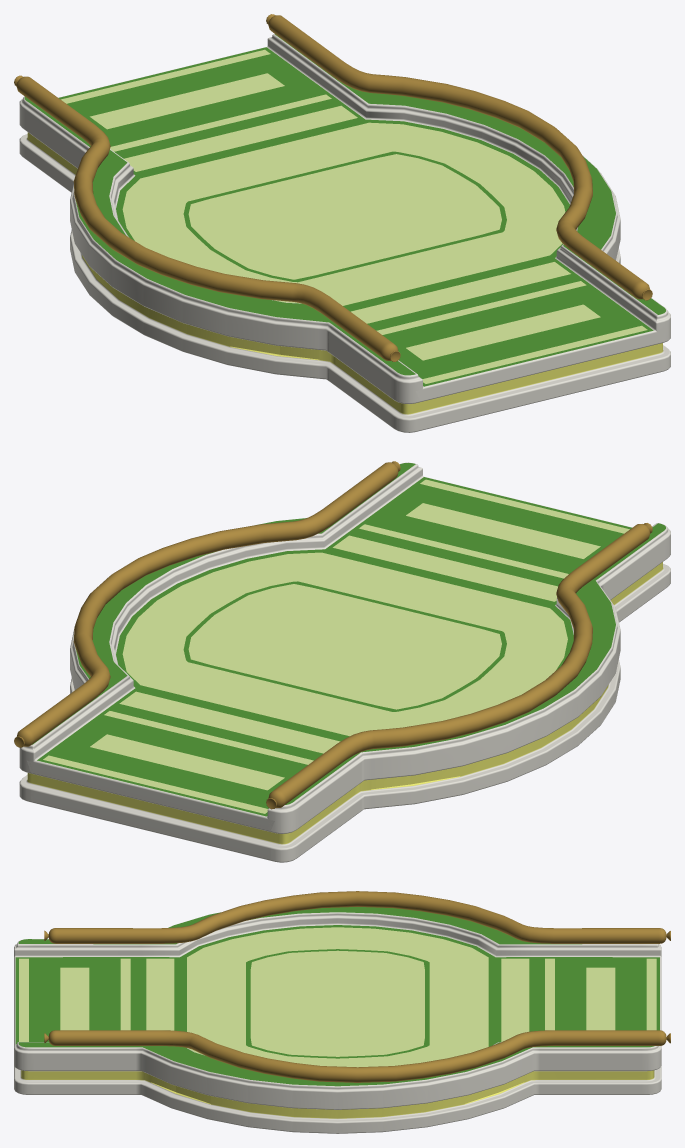
The model's file is SM_Checkpoint_Platform_01.fbx.
3 renders of one model, top to bottom at view 1: azimuth 30°, elevation 25°; view 2: azimuth 150°, elevation 25°; view 3: azimuth 270°, elevation 25°, orthographic. The views are drawn at different scales.
Visible parts, largest first — view 1: SM_Checkpoint_Platform_01, SM_Checkpoint_Platform_01.001; view 2: SM_Checkpoint_Platform_01, SM_Checkpoint_Platform_01.001; view 3: SM_Checkpoint_Platform_01, SM_Checkpoint_Platform_01.001.
Part boxes in pixels (x1=…): SM_Checkpoint_Platform_01: x1=19, y1=34, x2=670, y2=432; SM_Checkpoint_Platform_01.001: x1=14, y1=14, x2=652, y2=361; SM_Checkpoint_Platform_01: x1=19, y1=462, x2=670, y2=862; SM_Checkpoint_Platform_01.001: x1=14, y1=461, x2=652, y2=809; SM_Checkpoint_Platform_01: x1=14, y1=907, x2=661, y2=1133; SM_Checkpoint_Platform_01.001: x1=44, y1=891, x2=670, y2=1082.
Bounding box in the file's own units: 2265 × 334 × 3323.
